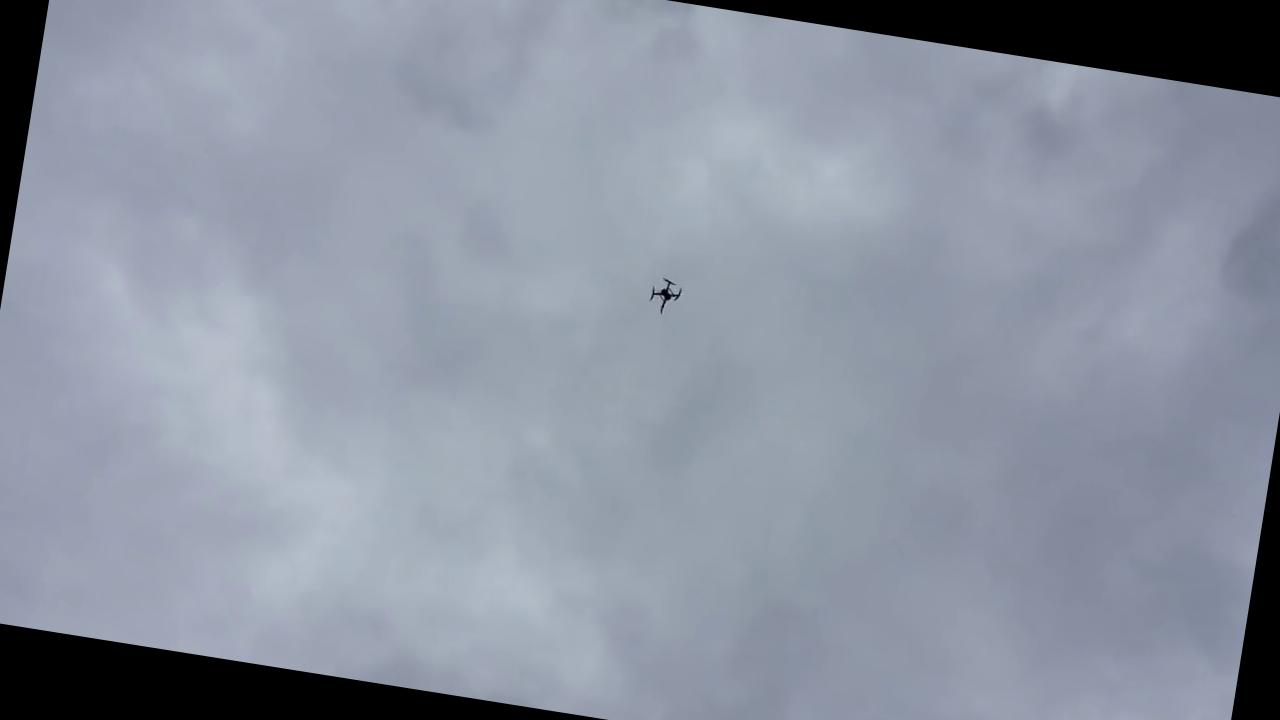drone: (640, 262, 694, 324)
